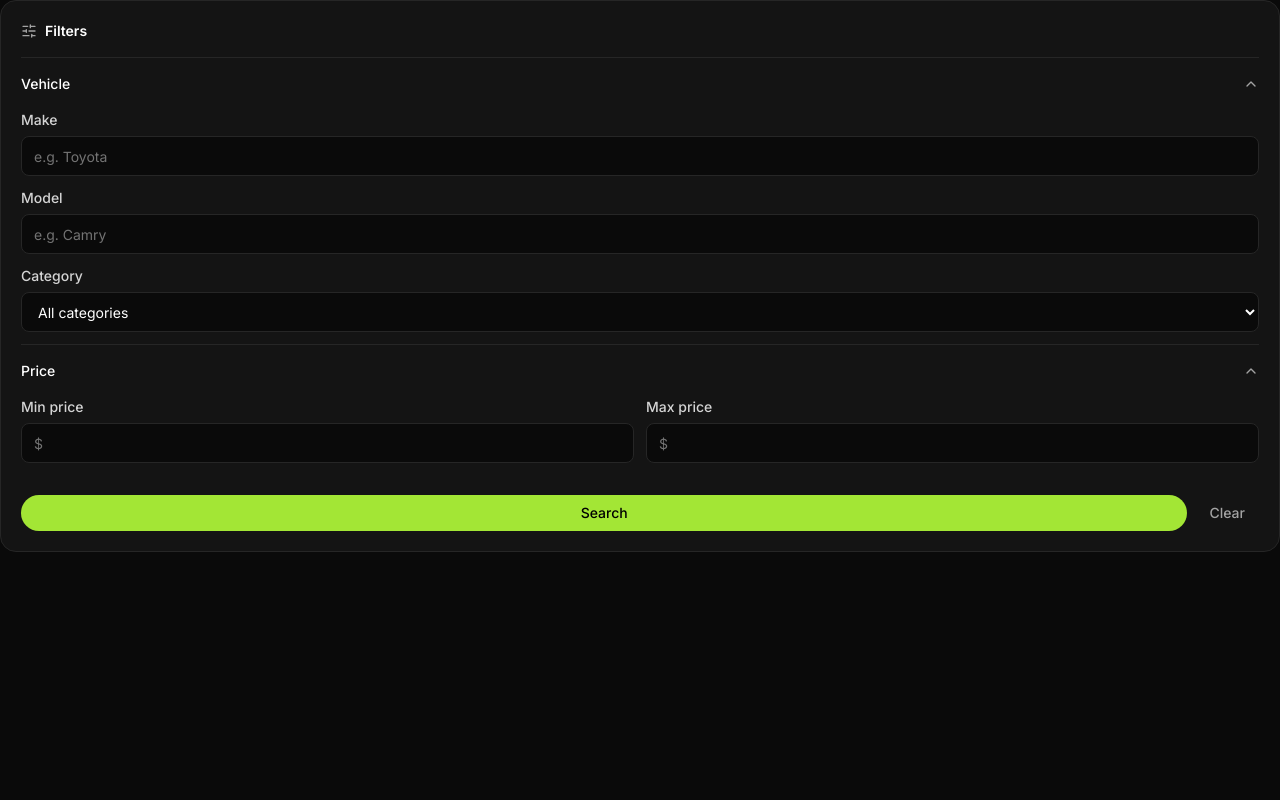
rejects a min price above the max price without searching
Type "50000" into the number field labelled "Min price" at (328, 443), box [21,423,634,463]
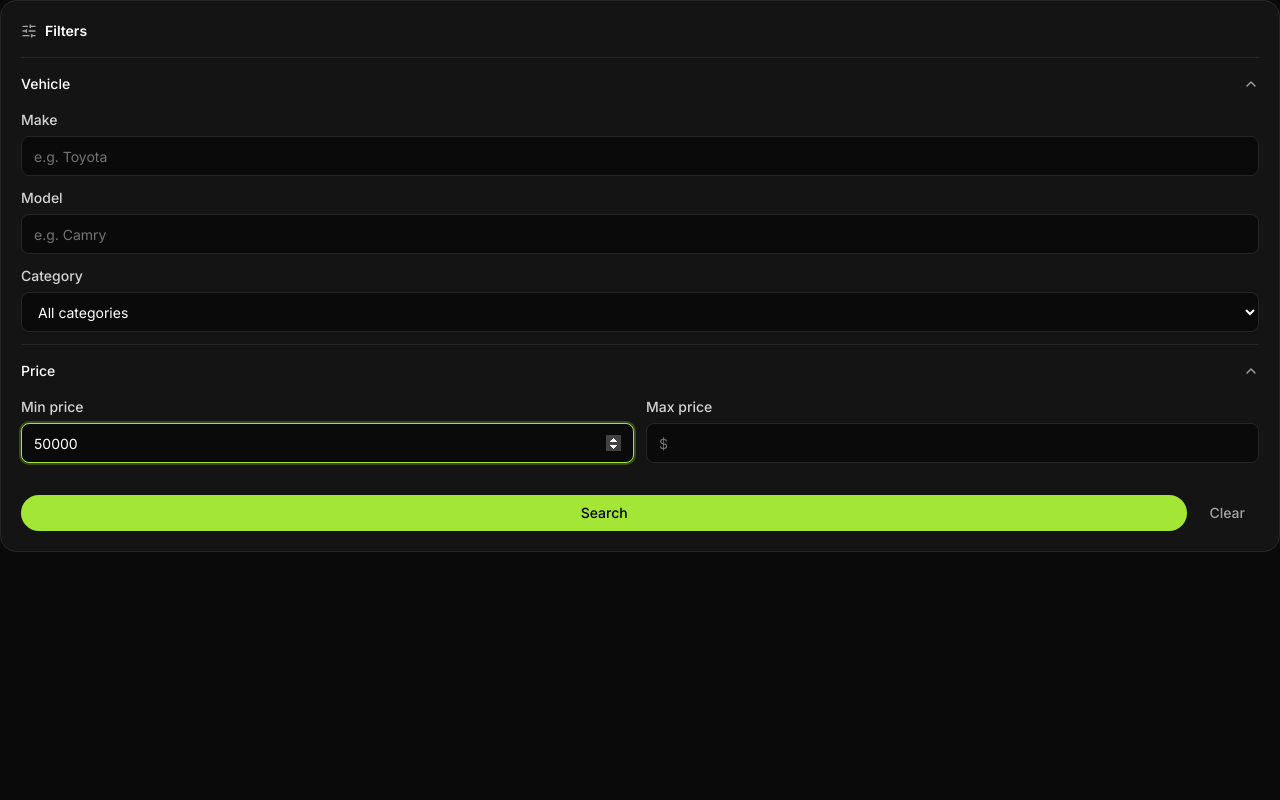
Type "10000" into the number field labelled "Max price" at (952, 443), box [646,423,1259,463]
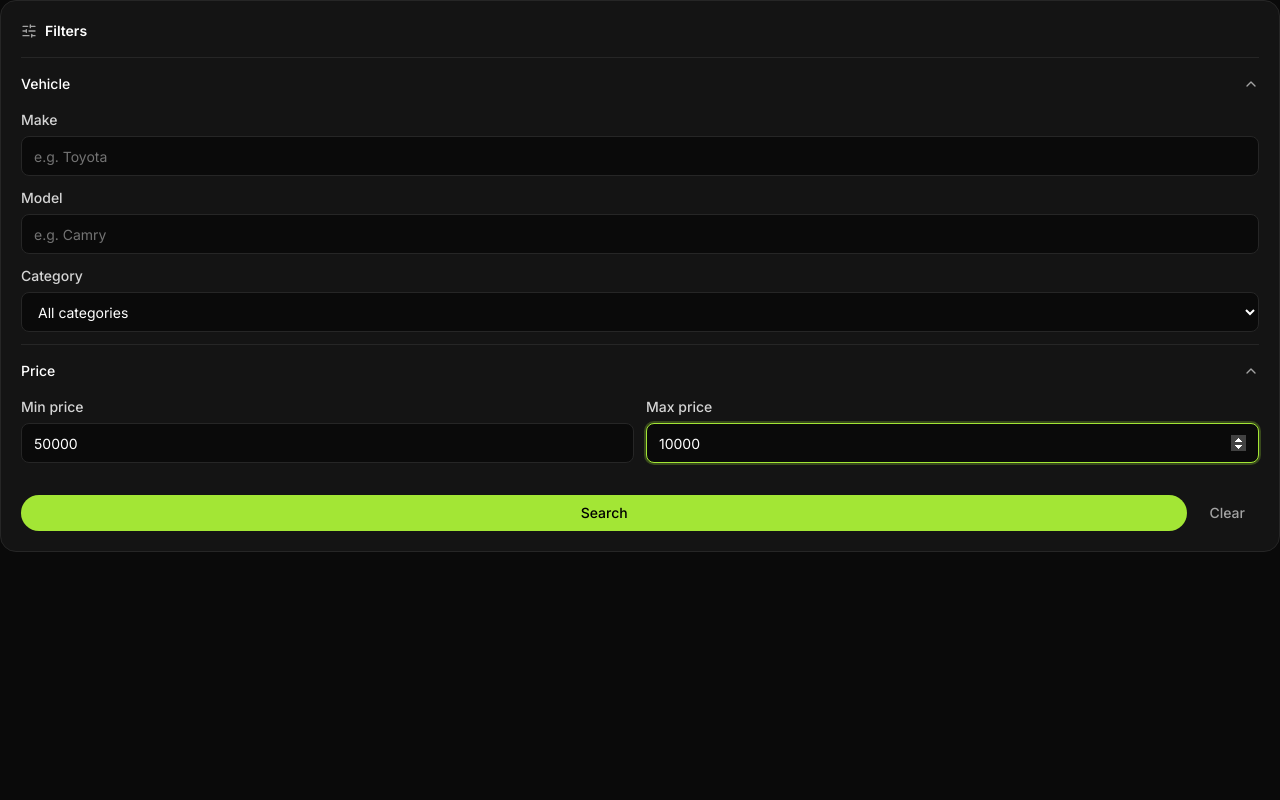
Click the button "Search" at (604, 513), box [21,495,1188,531]
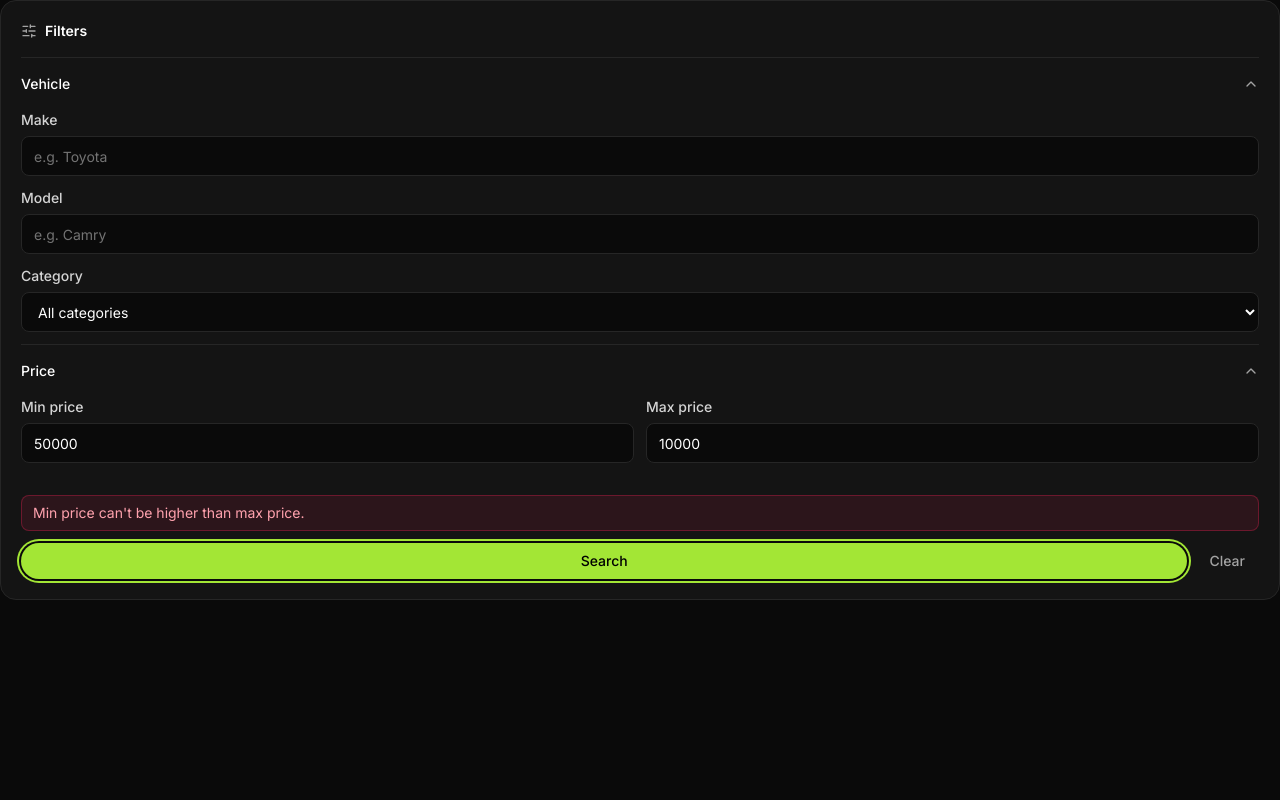
expect the message shows "Min price can't be higher than max price": met, box [33,504,304,521]
